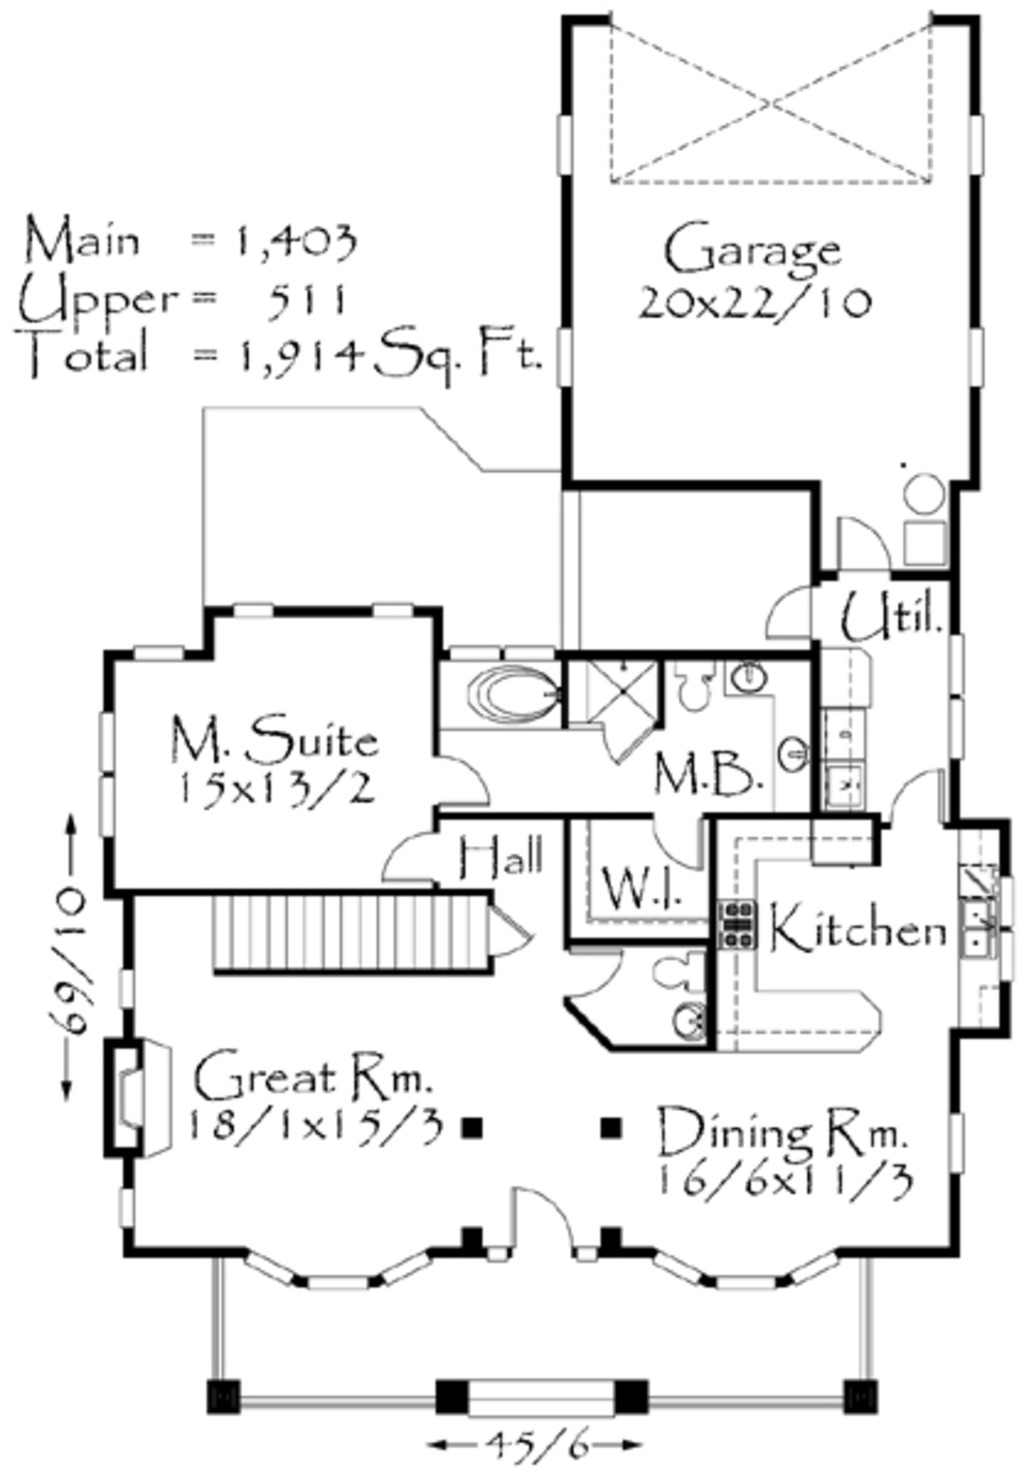door: (487, 1169, 578, 1272), (369, 813, 460, 893), (867, 756, 958, 834), (594, 722, 678, 791), (551, 929, 628, 1004), (828, 497, 900, 575), (653, 813, 717, 895), (426, 738, 499, 809), (747, 568, 815, 637), (487, 902, 540, 978)
large_sink: (665, 652, 724, 722), (649, 947, 715, 993)
small_sink: (733, 646, 808, 797), (669, 996, 724, 1056)
stairs: (205, 893, 499, 979)
twin_sink: (947, 884, 1002, 972)
window: (644, 1229, 844, 1297), (231, 1241, 451, 1295), (83, 704, 128, 836), (543, 104, 592, 198), (942, 631, 973, 763), (554, 318, 589, 397), (362, 588, 419, 631), (967, 322, 999, 395), (124, 637, 192, 670), (219, 597, 283, 629), (958, 118, 982, 181)
